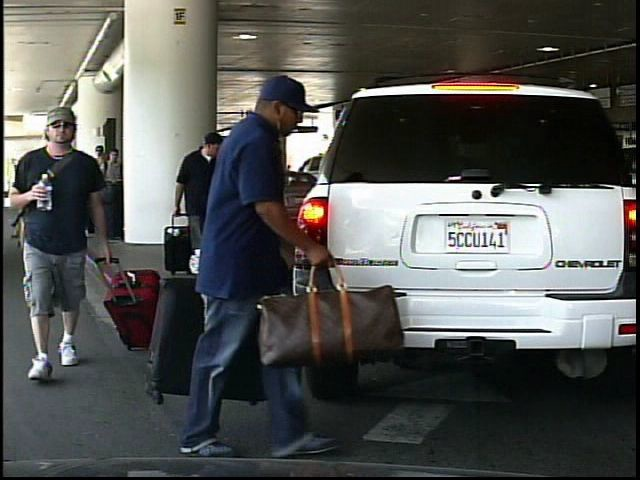person: (176, 75, 335, 462), (20, 100, 115, 383), (166, 129, 233, 276)
